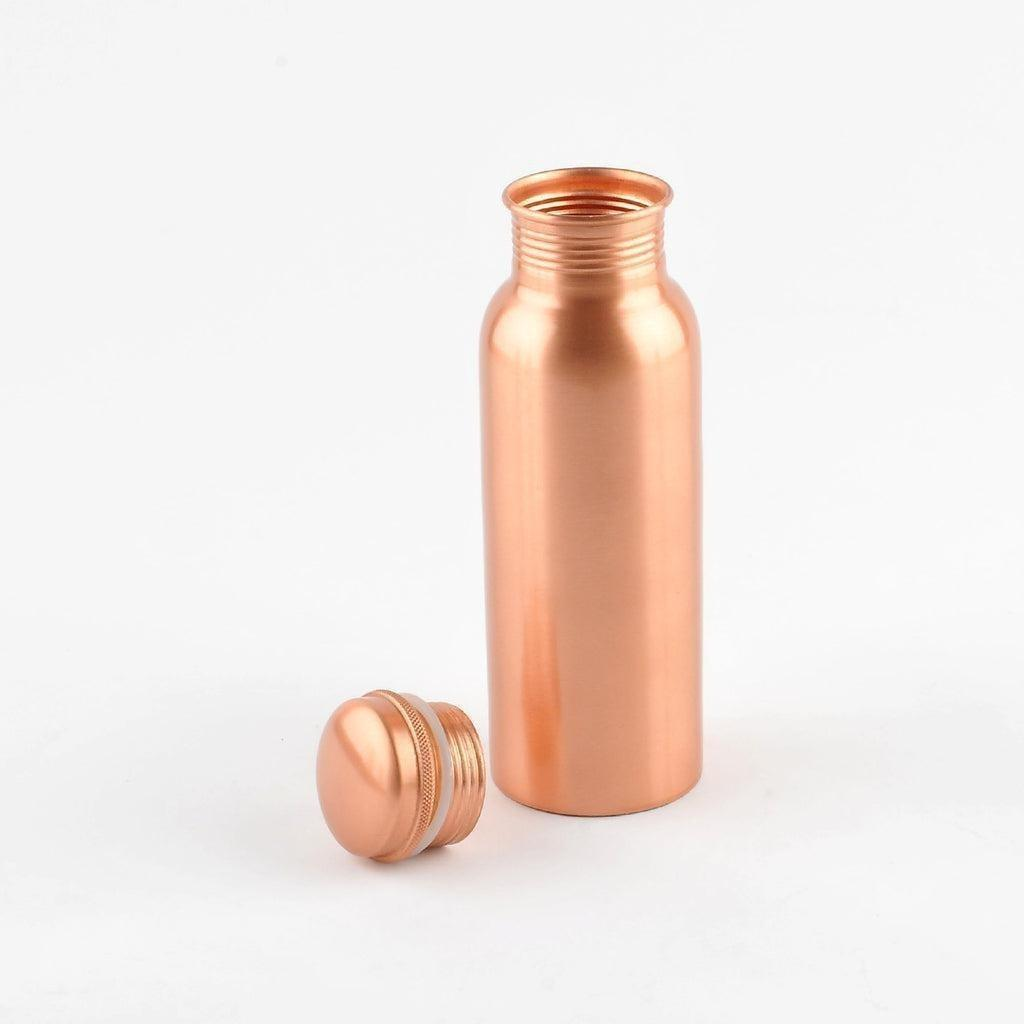gym bottle: (474, 149, 715, 824)
